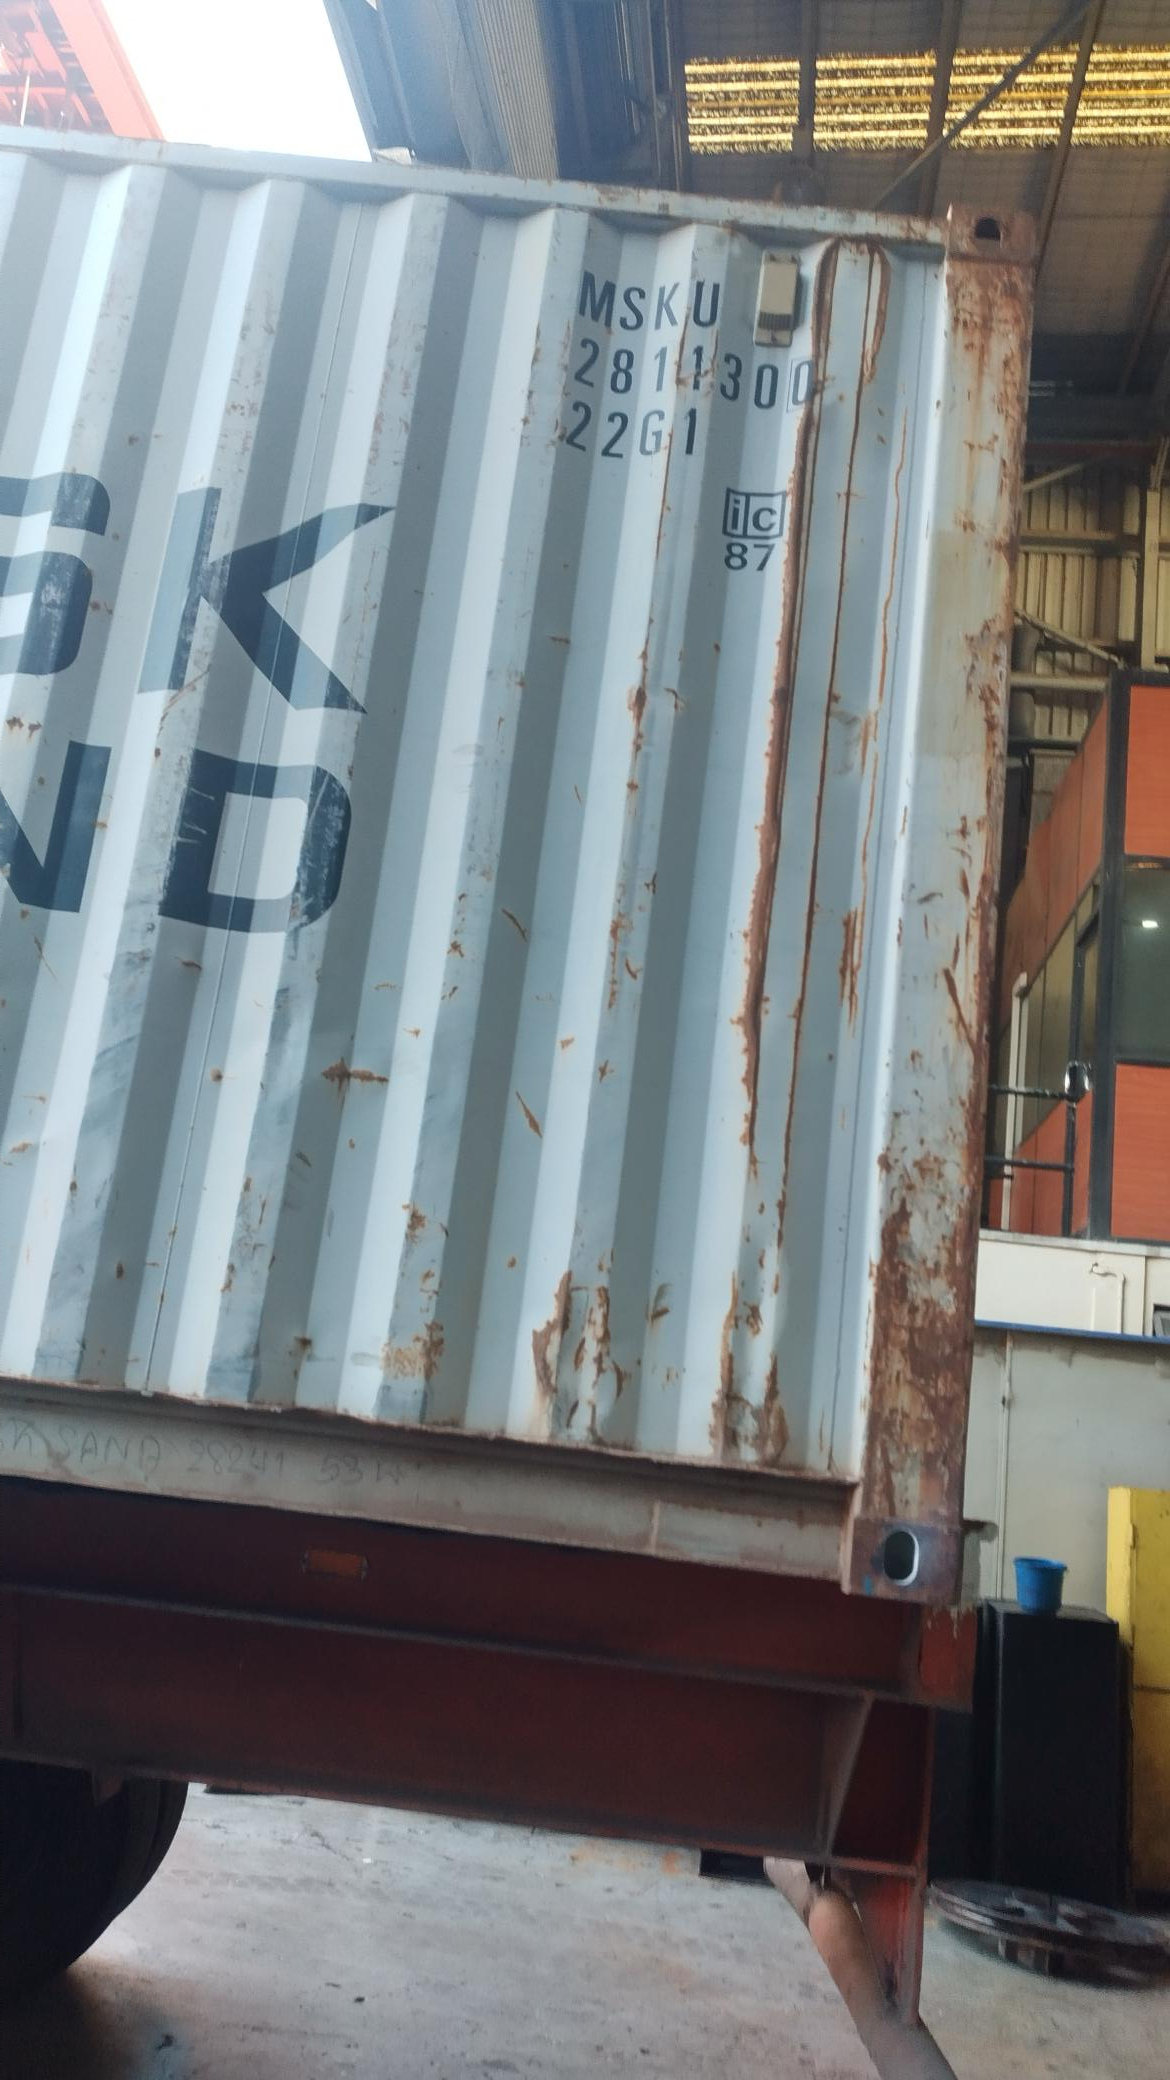rust: (696, 359, 857, 1141), (870, 1131, 971, 1543), (679, 1313, 834, 1463)
